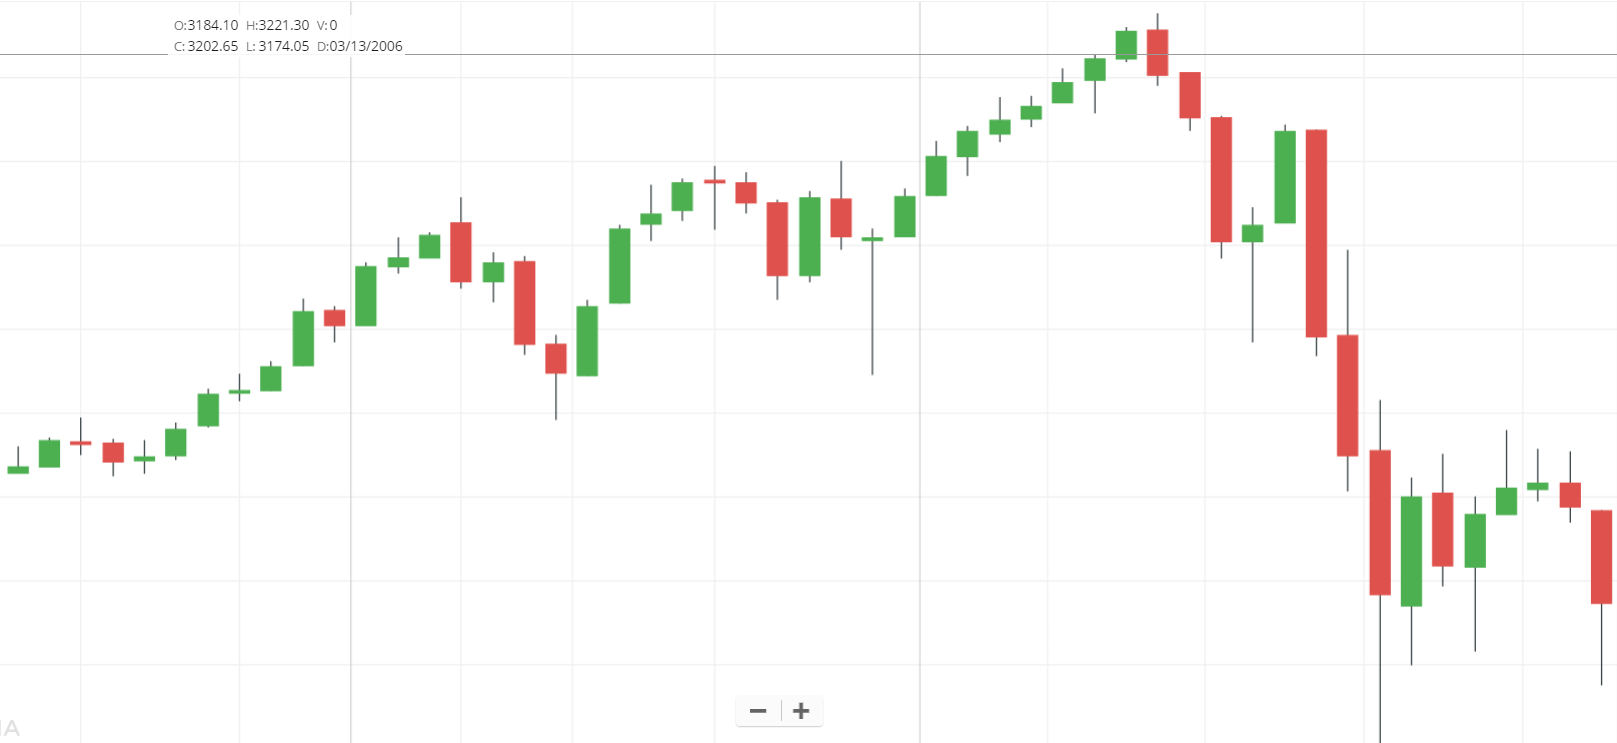doji: (1234, 200, 1273, 344), (859, 223, 887, 376), (697, 157, 731, 241), (1525, 428, 1551, 508), (127, 427, 160, 484), (221, 363, 254, 410), (63, 414, 94, 462)
